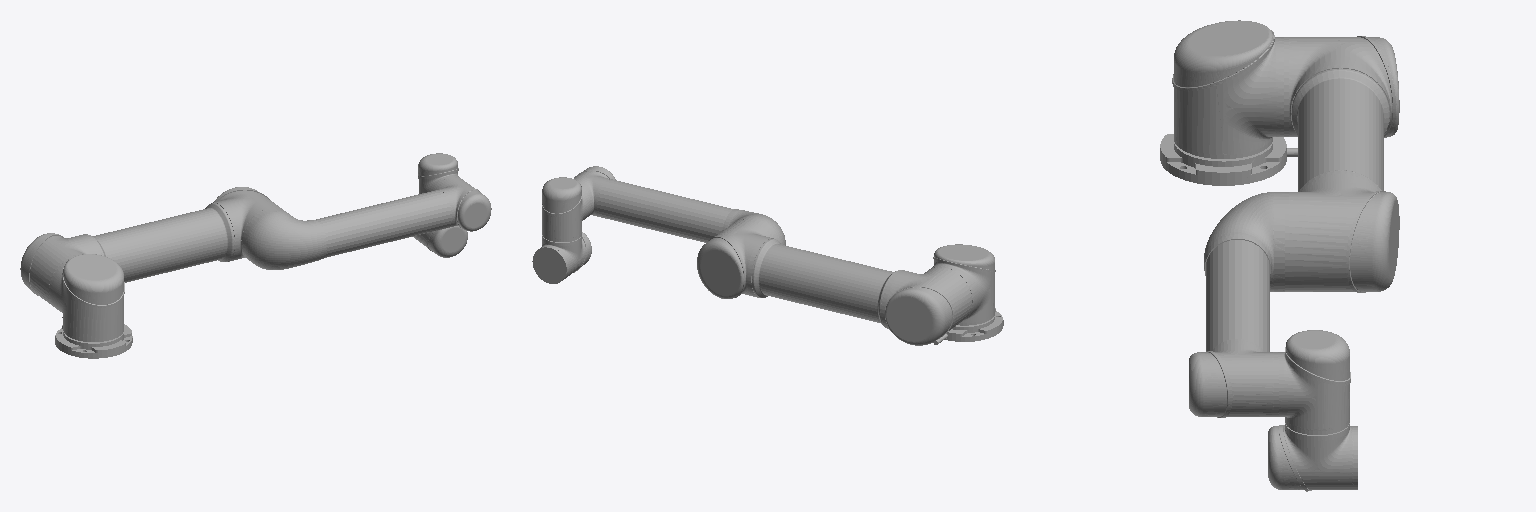
URDF robot description (ur5):
<?xml version="1.0" encoding="utf-8"?>
<!-- =================================================================================== -->
<!-- |    This document was autogenerated by xacro from urdf/ur5_robot.urdf.xacro      | -->
<!-- |    EDITING THIS FILE BY HAND IS NOT RECOMMENDED                                 | -->
<!-- =================================================================================== -->
<robot name="ur5">
  <!-- measured from model -->
  <link name="base_link">
    <visual>
      <origin rpy="0 0 3.14159265359" xyz="0 0 0"/>
      <geometry>
        <mesh filename="./base_visual.stl"/>
      </geometry>
      <material name="LightGrey">
        <color rgba="0.7 0.7 0.7 1.0"/>
      </material>
    </visual>
    <collision>
      <origin rpy="0 0 3.14159265359" xyz="0 0 0"/>
      <geometry>
        <mesh filename="./base.stl"/>
      </geometry>
    </collision>
    <inertial>
      <mass value="4.0"/>
      <origin rpy="0 0 0" xyz="0.0 0.0 0.0"/>
      <inertia ixx="0.00443333156" ixy="0.0" ixz="0.0" iyy="0.00443333156" iyz="0.0" izz="0.0072"/>
    </inertial>
  </link>
  <joint name="shoulder_pan_joint" type="revolute">
    <parent link="base_link"/>
    <child link="shoulder_link"/>
    <origin rpy="0 0 3.14159265359" xyz="0 0 0.089159"/>
    <axis xyz="0 0 1"/>
    <limit effort="150.0" lower="-3.14159265359" upper="3.14159265359" velocity="3.15"/>
    <dynamics damping="0.0" friction="0.0"/>
  </joint>
  <link name="shoulder_link">
    <visual>
      <origin rpy="0 0 3.14159265359" xyz="0 0 0"/>
      <geometry>
        <mesh filename="./shoulder_visual.stl"/>
      </geometry>
      <material name="LightGrey">
        <color rgba="0.7 0.7 0.7 1.0"/>
      </material>
    </visual>
    <collision>
      <origin rpy="0 0 3.14159265359" xyz="0 0 0"/>
      <geometry>
        <mesh filename="./shoulder.stl"/>
      </geometry>
    </collision>
    <inertial>
      <mass value="3.7"/>
      <origin rpy="0 0 0" xyz="0.0 0.0 0.0"/>
      <inertia ixx="0.0149723523444" ixy="0.0" ixz="0.0" iyy="0.0149723523444" iyz="0.0" izz="0.01040625"/>
    </inertial>
  </link>
  <joint name="shoulder_lift_joint" type="revolute">
    <parent link="shoulder_link"/>
    <child link="upper_arm_link"/>
    <origin rpy="1.570796327 0 0" xyz="0 0 0"/>
    <axis xyz="0 0 1"/>
    <limit effort="150.0" lower="-3.14159265359" upper="3.14159265359" velocity="3.15"/>
    <dynamics damping="0.0" friction="0.0"/>
  </joint>
  <link name="upper_arm_link">
    <visual>
      <origin rpy="1.57079632679 0 -1.57079632679" xyz="0 0 0.136"/>
      <geometry>
        <mesh filename="./upperarm_visual.stl"/>
      </geometry>
      <material name="LightGrey">
        <color rgba="0.7 0.7 0.7 1.0"/>
      </material>
    </visual>
    <collision>
      <origin rpy="1.57079632679 0 -1.57079632679" xyz="0 0 0.136"/>
      <geometry>
        <mesh filename="./upperarm.stl"/>
      </geometry>
    </collision>
    <inertial>
      <mass value="8.393"/>
      <origin rpy="0 1.57079632679 0" xyz="-0.2125 0.0 0.136"/>
      <inertia ixx="0.133885781862" ixy="0.0" ixz="0.0" iyy="0.133885781862" iyz="0.0" izz="0.0151074"/>
    </inertial>
  </link>
  <joint name="elbow_joint" type="revolute">
    <parent link="upper_arm_link"/>
    <child link="forearm_link"/>
    <origin rpy="0 0 0" xyz="-0.425 0 0"/>
    <axis xyz="0 0 1"/>
    <limit effort="150.0" lower="-3.14159265359" upper="3.14159265359" velocity="3.15"/>
    <dynamics damping="0.0" friction="0.0"/>
  </joint>
  <link name="forearm_link">
    <visual>
      <origin rpy="1.57079632679 0 -1.57079632679" xyz="0 0 0.0165"/>
      <geometry>
        <mesh filename="./forearm_visual.stl"/>
      </geometry>
      <material name="LightGrey">
        <color rgba="0.7 0.7 0.7 1.0"/>
      </material>
    </visual>
    <collision>
      <origin rpy="1.57079632679 0 -1.57079632679" xyz="0 0 0.0165"/>
      <geometry>
        <mesh filename="./forearm.stl"/>
      </geometry>
    </collision>
    <inertial>
      <mass value="2.275"/>
      <origin rpy="0 1.57079632679 0" xyz="-0.2125 0.0 0.0165"/>
      <inertia ixx="0.0312167910289" ixy="0.0" ixz="0.0" iyy="0.0312167910289" iyz="0.0" izz="0.004095"/>
    </inertial>
  </link>
  <joint name="wrist_1_joint" type="revolute">
    <parent link="forearm_link"/>
    <child link="wrist_1_link"/>
    <origin rpy="0 0 0" xyz="-0.39225 0 0.10915"/>
    <axis xyz="0 0 1"/>
    <limit effort="28.0" lower="-3.14159265359" upper="3.14159265359" velocity="3.2"/>
    <dynamics damping="0.0" friction="0.0"/>
  </joint>
  <link name="wrist_1_link">
    <visual>
      <origin rpy="1.57079632679 0 0" xyz="0 0 -0.093"/>
      <geometry>
        <mesh filename="./wrist1_visual.stl"/>
      </geometry>
      <material name="LightGrey">
        <color rgba="0.7 0.7 0.7 1.0"/>
      </material>
    </visual>
    <collision>
      <origin rpy="1.57079632679 0 0" xyz="0 0 -0.093"/>
      <geometry>
        <mesh filename="./wrist1.stl"/>
      </geometry>
    </collision>
    <inertial>
      <mass value="1.219"/>
      <origin rpy="0 0 0" xyz="0.0 0.0 0.0"/>
      <inertia ixx="0.00262426443592" ixy="0.0" ixz="0.0" iyy="0.00262426443592" iyz="0.0" izz="0.0034284375"/>
    </inertial>
  </link>
  <joint name="wrist_2_joint" type="revolute">
    <parent link="wrist_1_link"/>
    <child link="wrist_2_link"/>
    <origin rpy="1.570796327 0 0" xyz="0 -0.09465 -1.9413039509e-11"/>
    <axis xyz="0 0 1"/>
    <limit effort="28.0" lower="-3.14159265359" upper="3.14159265359" velocity="3.2"/>
    <dynamics damping="0.0" friction="0.0"/>
  </joint>
  <link name="wrist_2_link">
    <visual>
      <origin rpy="0 0 0" xyz="0 0 -0.095"/>
      <geometry>
        <mesh filename="./wrist2_visual.stl"/>
      </geometry>
      <material name="LightGrey">
        <color rgba="0.7 0.7 0.7 1.0"/>
      </material>
    </visual>
    <collision>
      <origin rpy="0 0 0" xyz="0 0 -0.095"/>
      <geometry>
        <mesh filename="./wrist2.stl"/>
      </geometry>
    </collision>
    <inertial>
      <mass value="1.219"/>
      <origin rpy="0 0 0" xyz="0.0 0.0 0.0"/>
      <inertia ixx="0.00178515266177" ixy="0.0" ixz="0.0" iyy="0.00178515266177" iyz="0.0" izz="0.0021942"/>
    </inertial>
  </link>
  <joint name="wrist_3_joint" type="revolute">
    <parent link="wrist_2_link"/>
    <child link="wrist_3_link"/>
    <origin rpy="1.57079632659 3.14159265359 3.14159265359" xyz="0 0.0823 -1.68800121668e-11"/>
    <axis xyz="0 0 1"/>
    <limit effort="28.0" lower="-3.14159265359" upper="3.14159265359" velocity="3.2"/>
    <dynamics damping="0.0" friction="0.0"/>
  </joint>
  <link name="wrist_3_link">
    <visual>
      <origin rpy="1.57079632679 0 0" xyz="0 0 -0.0818"/>
      <geometry>
        <mesh filename="./wrist3_visual.stl"/>
      </geometry>
      <material name="LightGrey">
        <color rgba="0.7 0.7 0.7 1.0"/>
      </material>
    </visual>
    <collision>
      <origin rpy="1.57079632679 0 0" xyz="0 0 -0.0823"/>
      <geometry>
        <mesh filename="./wrist3.stl"/>
      </geometry>
    </collision>
    <inertial>
      <mass value="0.1879"/>
      <origin rpy="0 0 0" xyz="0.0 0.0 -0.01525"/>
      <inertia ixx="8.06247260834e-05" ixy="0.0" ixz="0.0" iyy="8.06247260834e-05" iyz="0.0" izz="0.0001321171875"/>
    </inertial>
  </link>
  <!--
  <joint name="ee_fixed_joint" type="fixed">
    <parent link="wrist_3_link"/>
    <child link="ee_link"/>
    <origin rpy="0.0 -1.57079632679 1.57079632679" xyz="0.0 0.0 0.0"/>
  </joint>
  <link name="ee_link">
    <collision>
      <geometry>
        <box size="0.01 0.01 0.01"/>
      </geometry>
      <origin rpy="0 0 0" xyz="-0.01 0 0"/>
    </collision>
  </link>
  <joint name="wrist_3_passive_joint" type="fixed">
    <origin rpy="0 0 0" xyz="0 0 0"/>
    <parent link="wrist_3_link"/>
    <child link="tool0"/>
  </joint>
  -->
  <!-- ROS base_link to UR 'Base' Coordinates transform
  <link name="base"/>
  <joint name="base_link-base_fixed_joint" type="fixed">
    <origin rpy="0 0 -3.14159265359" xyz="0 0 0"/>
    <parent link="base_link"/>
    <child link="base"/>
  </joint> -->
  <!-- Frame coincident with all-zeros TCP on UR controller -->
  <!--<link name="tool0"/>-->
</robot>

--- Facts derived from the render (not from the file) ---
3 views of the same robot in one strip: view 1: azimuth 30°, elevation 25°; view 2: azimuth 150°, elevation 25°; view 3: azimuth 270°, elevation 25° (orthographic).
Model ur5 with 7 links and 6 joints (6 revolute), rooted at base_link, posed all joints at 0.
Links seen in each view (by area): view 1: upper_arm_link, forearm_link, shoulder_link, base_link, wrist_1_link, wrist_2_link; view 2: upper_arm_link, forearm_link, shoulder_link, wrist_1_link, wrist_2_link, base_link; view 3: upper_arm_link, forearm_link, shoulder_link, wrist_1_link, wrist_2_link, base_link.
Link boxes in pixels (x1,y1,x2,y2): upper_arm_link: [20, 187, 282, 306]; forearm_link: [243, 177, 491, 269]; shoulder_link: [49, 254, 124, 341]; base_link: [55, 317, 132, 358]; wrist_1_link: [418, 153, 459, 193]; wrist_2_link: [413, 226, 467, 257]; upper_arm_link: [697, 219, 971, 345]; forearm_link: [574, 166, 785, 245]; shoulder_link: [929, 244, 995, 325]; wrist_1_link: [542, 177, 590, 241]; wrist_2_link: [532, 232, 591, 283]; base_link: [933, 308, 1003, 344]; upper_arm_link: [1284, 36, 1399, 292]; forearm_link: [1189, 192, 1284, 417]; shoulder_link: [1172, 20, 1283, 158]; wrist_1_link: [1278, 330, 1350, 434]; wrist_2_link: [1268, 423, 1357, 491]; base_link: [1160, 134, 1297, 185].
Size in the robot's own frame: 0.9295 by 0.2779 by 0.2016 metres.
6 mesh visuals loaded from 7 distinct referenced files (6 binary STL); not drawn: 1 (reference not matched to a file when rendering).